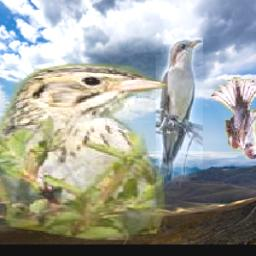Cuckoo: (157, 38, 204, 207)
Sparrow: (0, 64, 168, 241), (211, 78, 256, 160)
